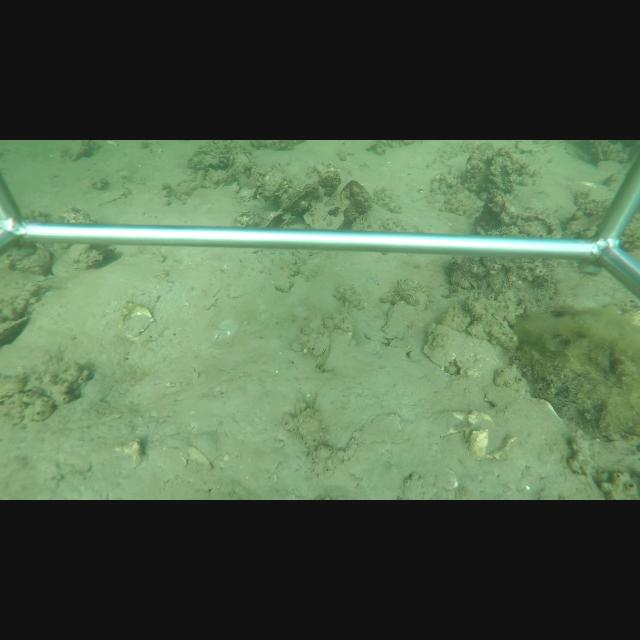Oyster-Closed: (422, 323, 506, 380), (263, 184, 328, 226), (377, 302, 420, 341), (313, 345, 331, 372)
